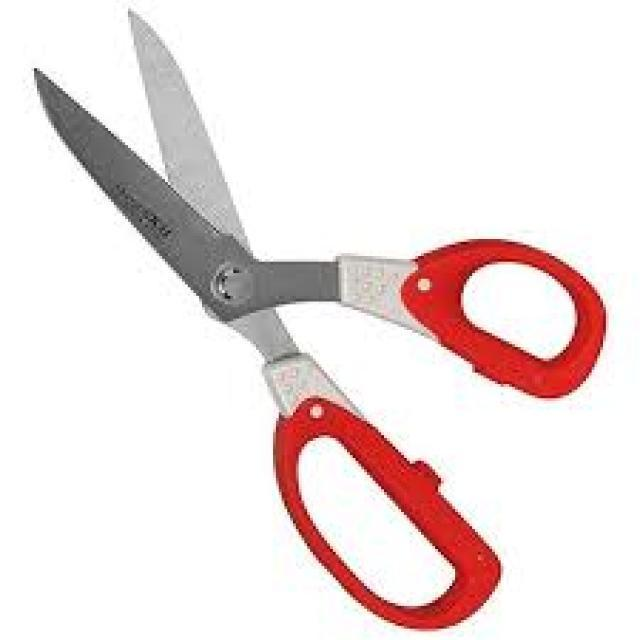Scissors: (23, 0, 622, 640)
